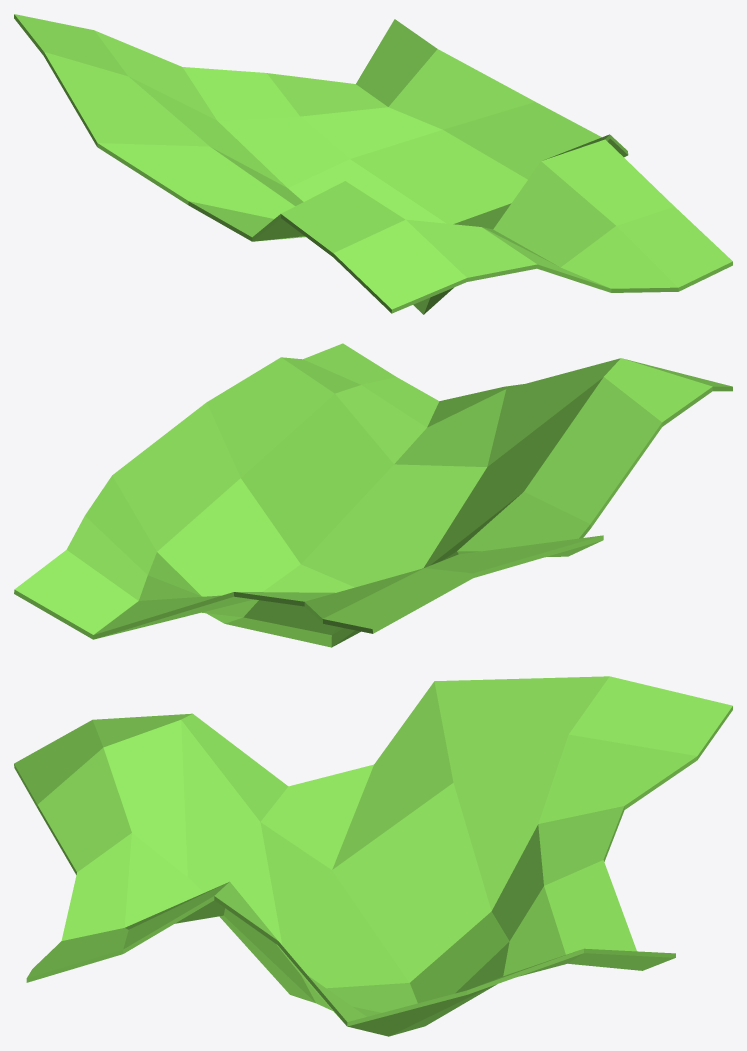
Rendered from plastic wrap 3.fbx.
3 views of the same model, one above another, from view 1: azimuth 30°, elevation 25°; view 2: azimuth 150°, elevation 25°; view 3: azimuth 270°, elevation 25° (orthographic). The views are drawn at different scales.
Parts seen in each view (by area): view 1: Plane; view 2: Plane; view 3: Plane.
Boxes of the visible parts, x1,y1,x2,y2 form: Plane: (14, 14, 732, 314); Plane: (14, 343, 732, 647); Plane: (14, 676, 732, 1036).
Bounding box in the file's own units: 15.26 × 6.13 × 19.05.
